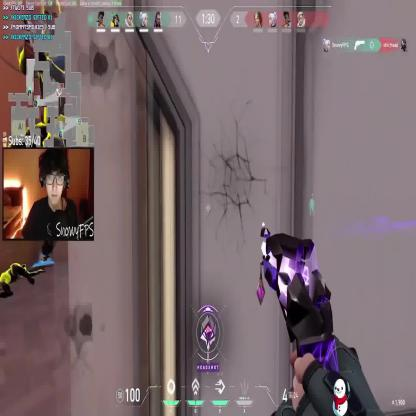enemy: (12, 0, 78, 148)
